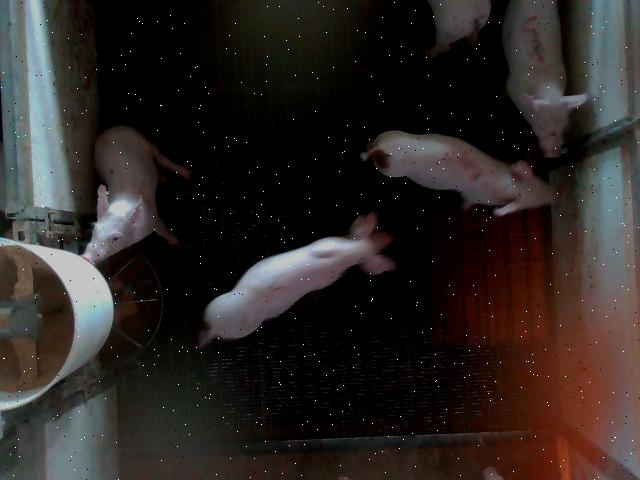pig-3: (501, 0, 588, 157)
pig-5: (360, 130, 556, 216)
